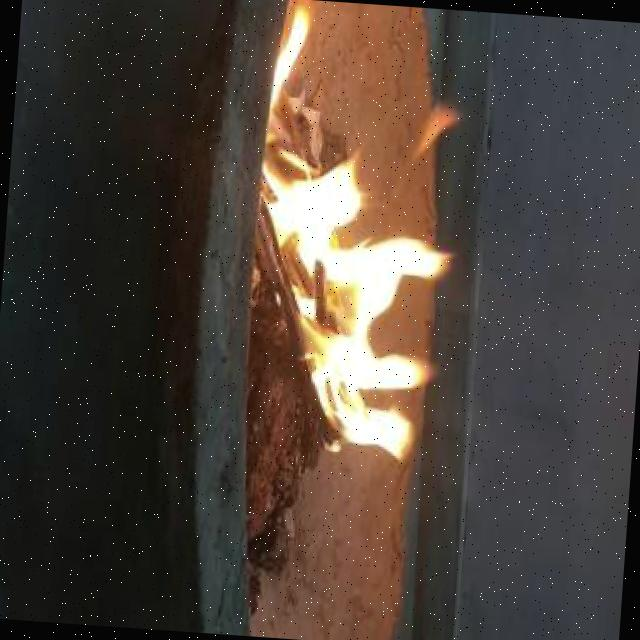fire: (239, 6, 458, 465)
